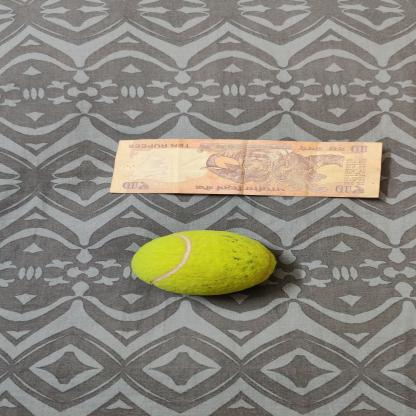Old10Back: (110, 138, 386, 200)
